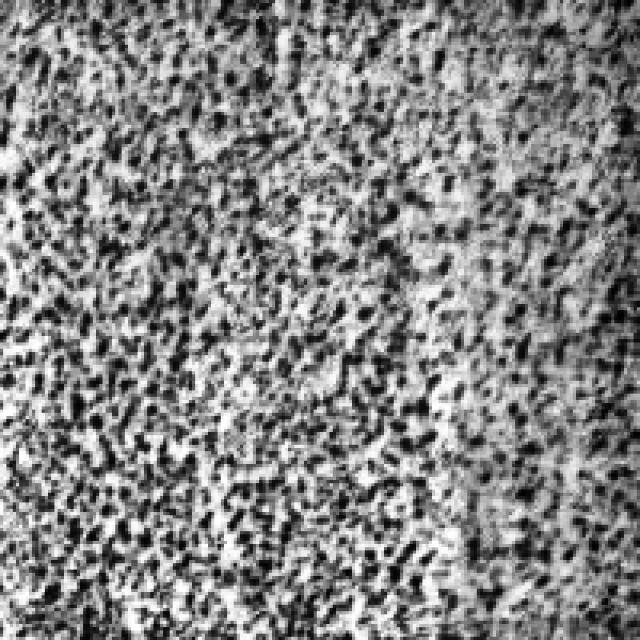Rolled_in_Scale: (3, 3, 621, 627)
